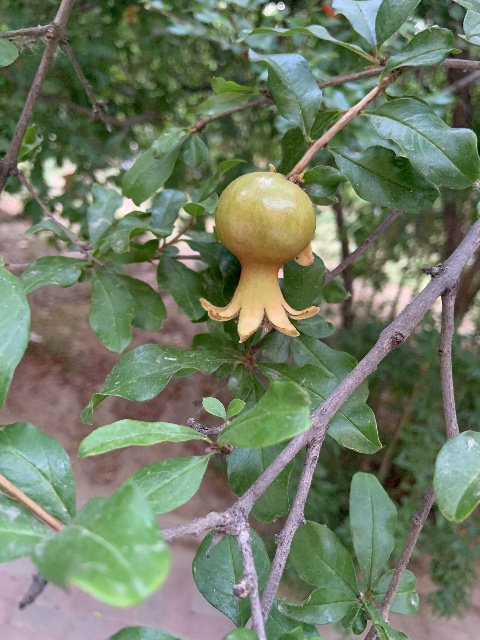mid-growth: (199, 170, 317, 343)
